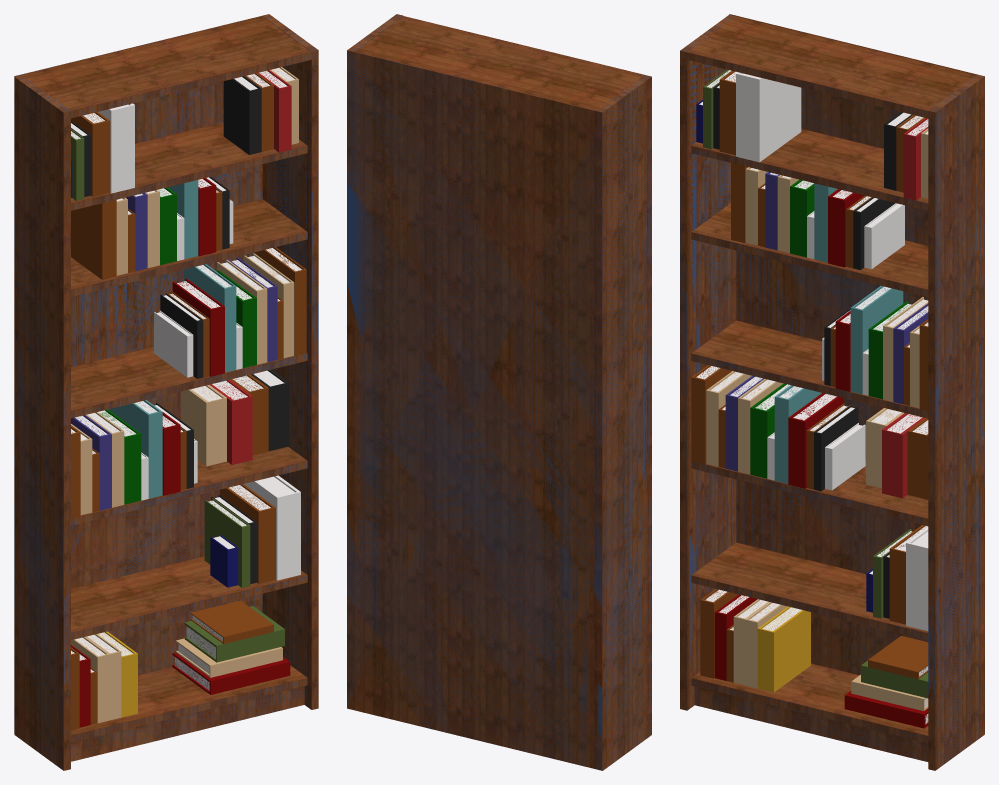
The model's file is Bookcase.dae.
3 views of the same model, side by side, from view 1: azimuth 30°, elevation 25°; view 2: azimuth 150°, elevation 25°; view 3: azimuth 330°, elevation 25° (orthographic).
Visible parts, largest first — view 1: Component16 (×17), Component17, Component14 (×8), Component12 (×5), Component36 (×3), Component13 (×4), Component40 (×2), Component22 (×2), Component35 (×3), Component41 (×2), Component34 (×3), Component19 (×2) (+12 smaller); view 2: Component17, Component16 (×2); view 3: Component16 (×17), Component17, Component14 (×8), Component40 (×2), Component12 (×6), Component13 (×4), Component36 (×3), Component35 (×3), Component33 (×2), Component15, Component34 (×3), Component20 (×2) (+10 smaller).
Boxes of the visible parts, bbox=[...] form: Component16 (×17): bbox=[14, 14, 318, 770]; Component17: bbox=[14, 14, 269, 733]; Component14 (×8): bbox=[71, 190, 294, 723]; Component12 (×5): bbox=[71, 200, 306, 730]; Component36 (×3): bbox=[108, 180, 236, 498]; Component13 (×4): bbox=[71, 178, 224, 727]; Component40 (×2): bbox=[98, 103, 300, 580]; Component22 (×2): bbox=[223, 76, 289, 450]; Component35 (×3): bbox=[105, 187, 256, 504]; Component41 (×2): bbox=[71, 112, 275, 583]; Component34 (×3): bbox=[71, 193, 277, 510]; Component19 (×2): bbox=[181, 67, 298, 466]; Component17: bbox=[347, 50, 602, 770]; Component16 (×2): bbox=[355, 16, 651, 770]; Component16 (×17): bbox=[680, 14, 984, 770]; Component17: bbox=[729, 14, 984, 734]; Component14 (×8): bbox=[706, 167, 928, 688]; Component40 (×2): bbox=[736, 72, 928, 630]; Component12 (×6): bbox=[691, 163, 928, 678]; Component13 (×4): bbox=[714, 189, 864, 680]; Component36 (×3): bbox=[774, 183, 903, 483]; Component35 (×3): bbox=[750, 179, 908, 478]; Component33 (×2): bbox=[825, 203, 904, 490]; Component15: bbox=[757, 606, 810, 692]; Component34 (×3): bbox=[725, 172, 928, 471]; Component20 (×2): bbox=[882, 118, 928, 498].
Bounding box in the file's own units: 36 × 12.13 × 88.82.
Materials: 14 (1 with a texture image).
